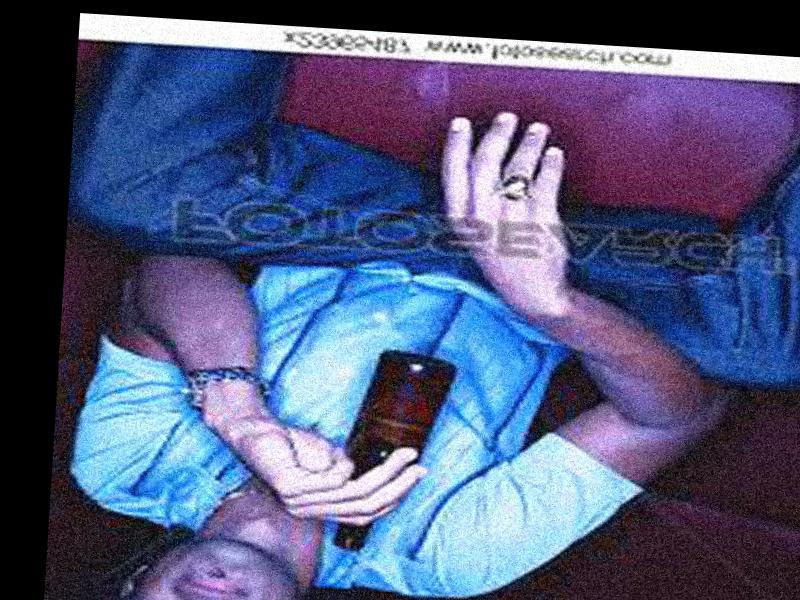Beer: (331, 349, 460, 557)
